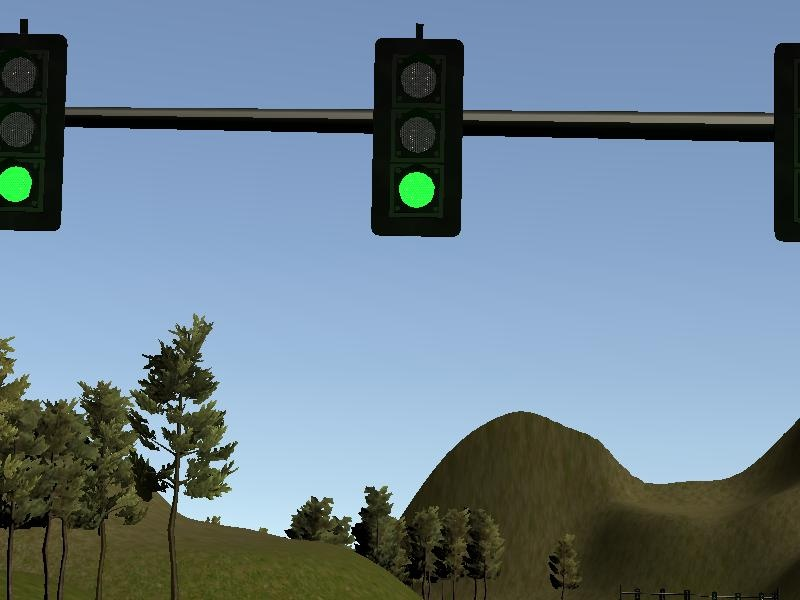green: (373, 39, 461, 236), (1, 34, 63, 229)
